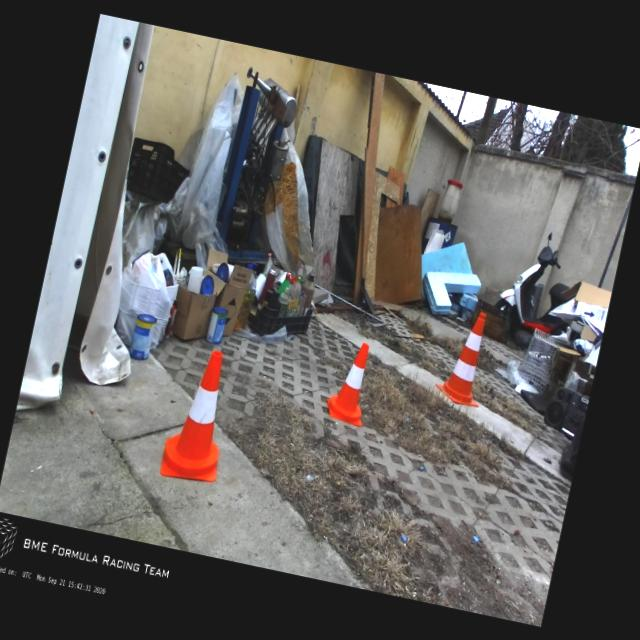large_orange_cone: (432, 306, 497, 408)
orange_cone: (158, 344, 242, 486), (322, 336, 378, 426)
